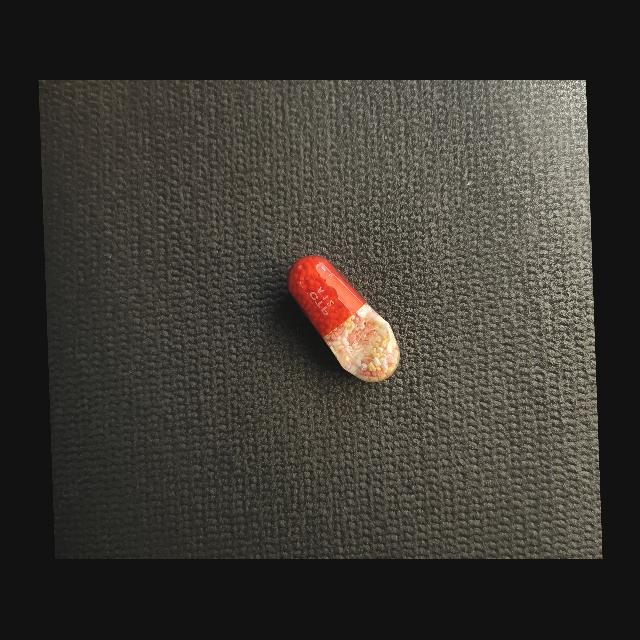Defective Capsule: (287, 256, 400, 383)
